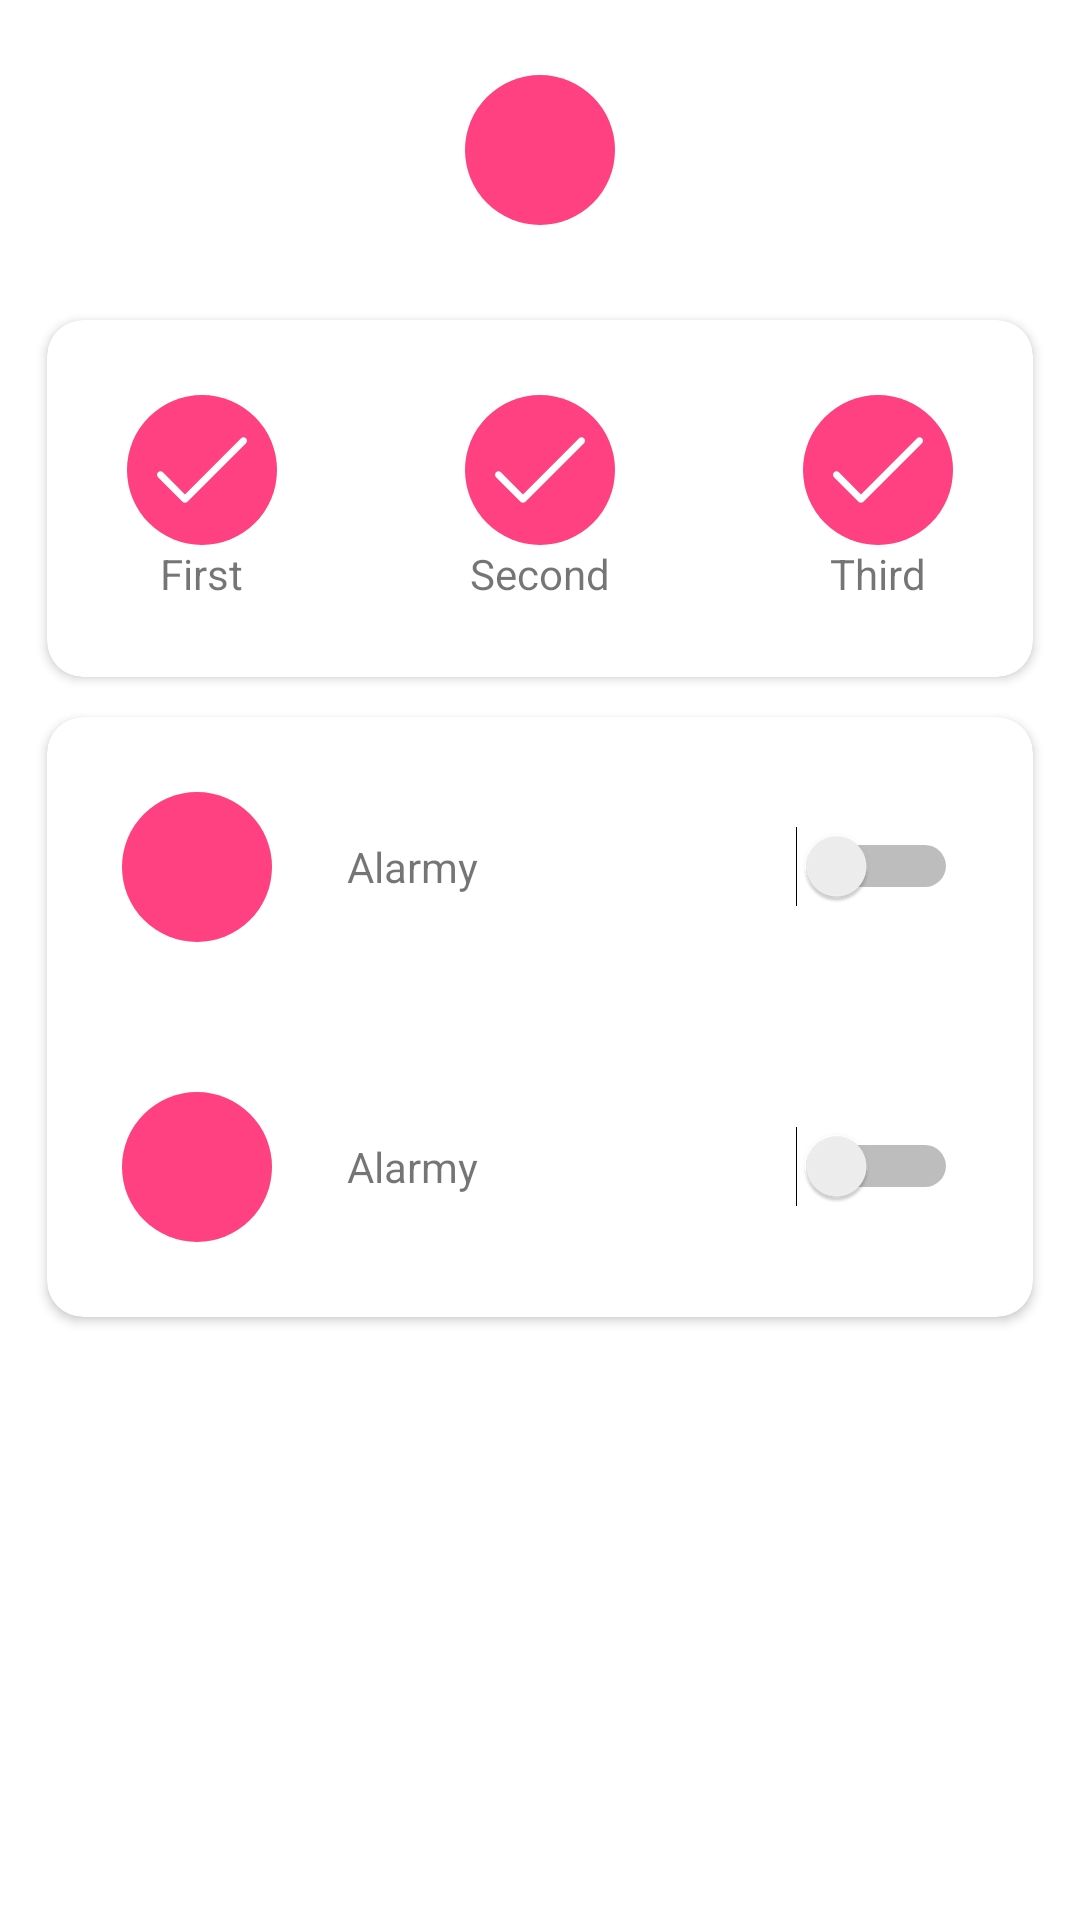

Locate icon controls on the screen. Image size 1080 x 1920, boxes as (x1, y1, x2, y2).
tick: (127, 395, 277, 545), (465, 395, 615, 545), (803, 395, 953, 545)
